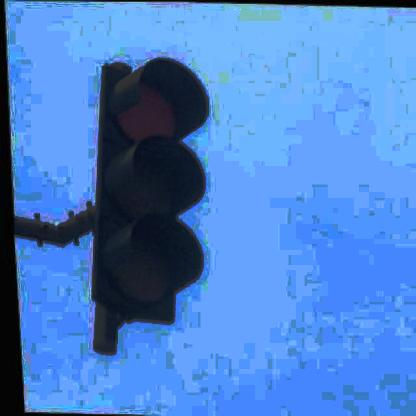Traffic Light -Red-: (75, 56, 218, 328)
